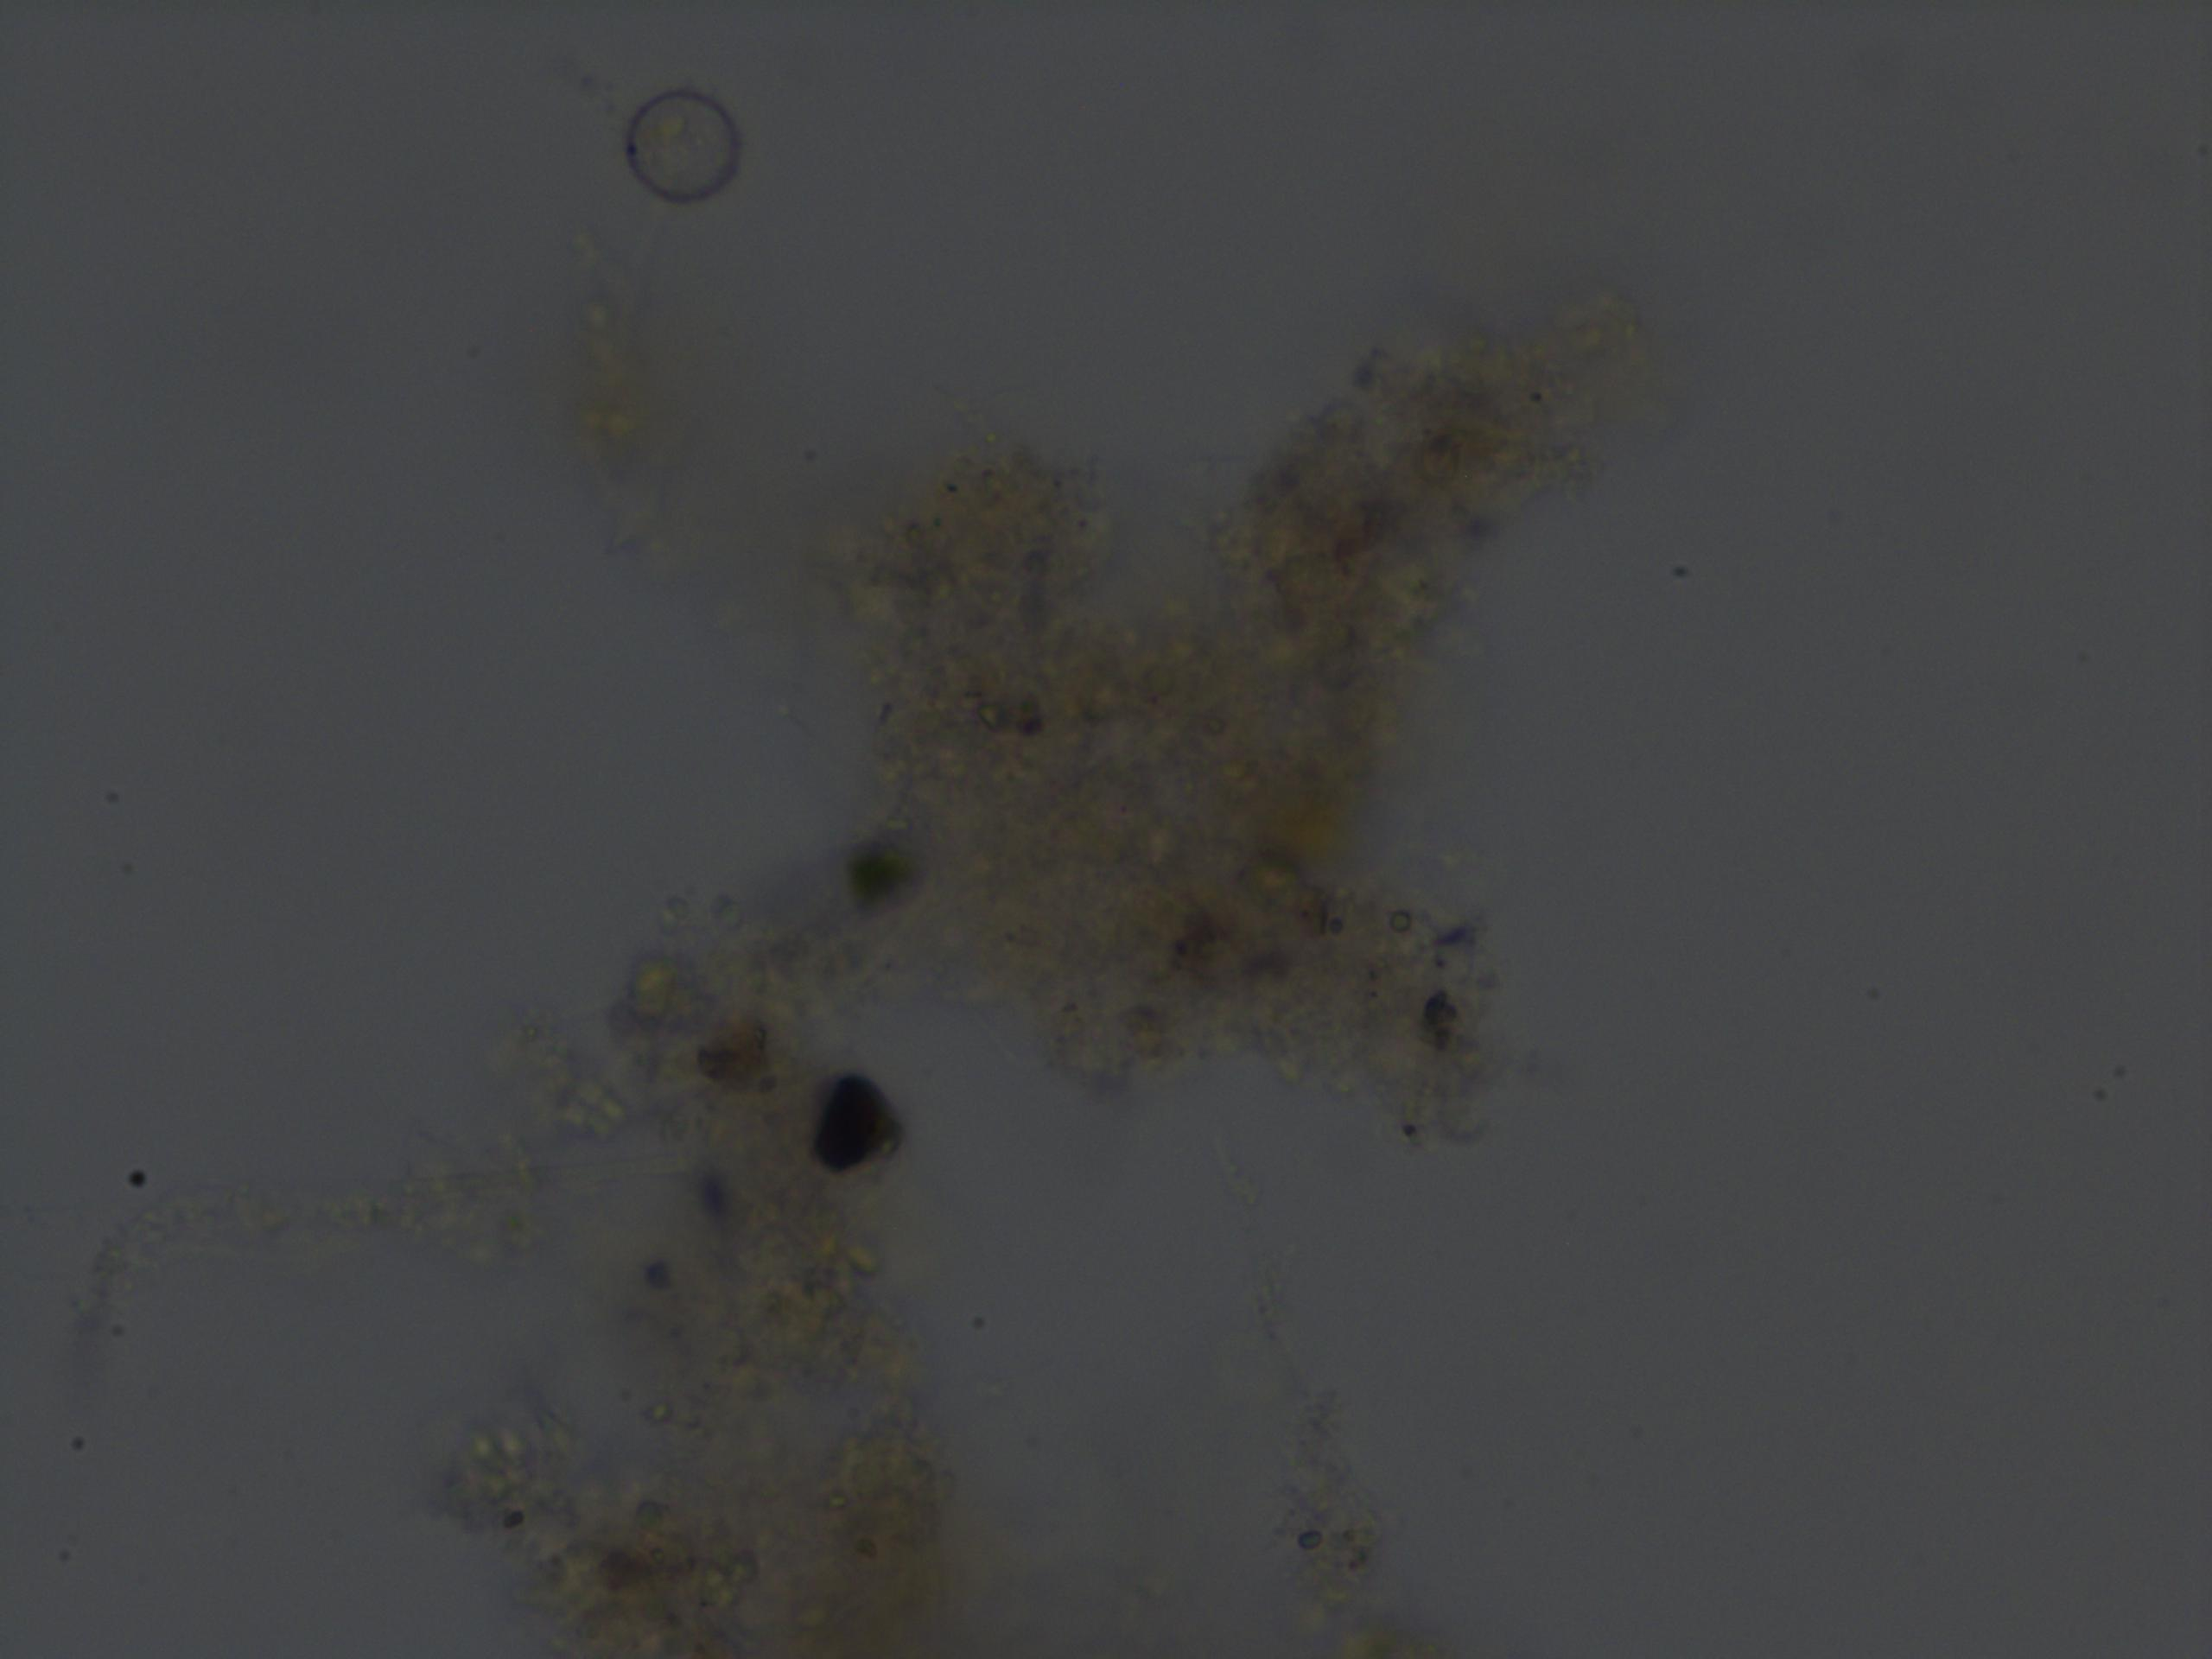open_floc: (362, 223, 1670, 1659)
